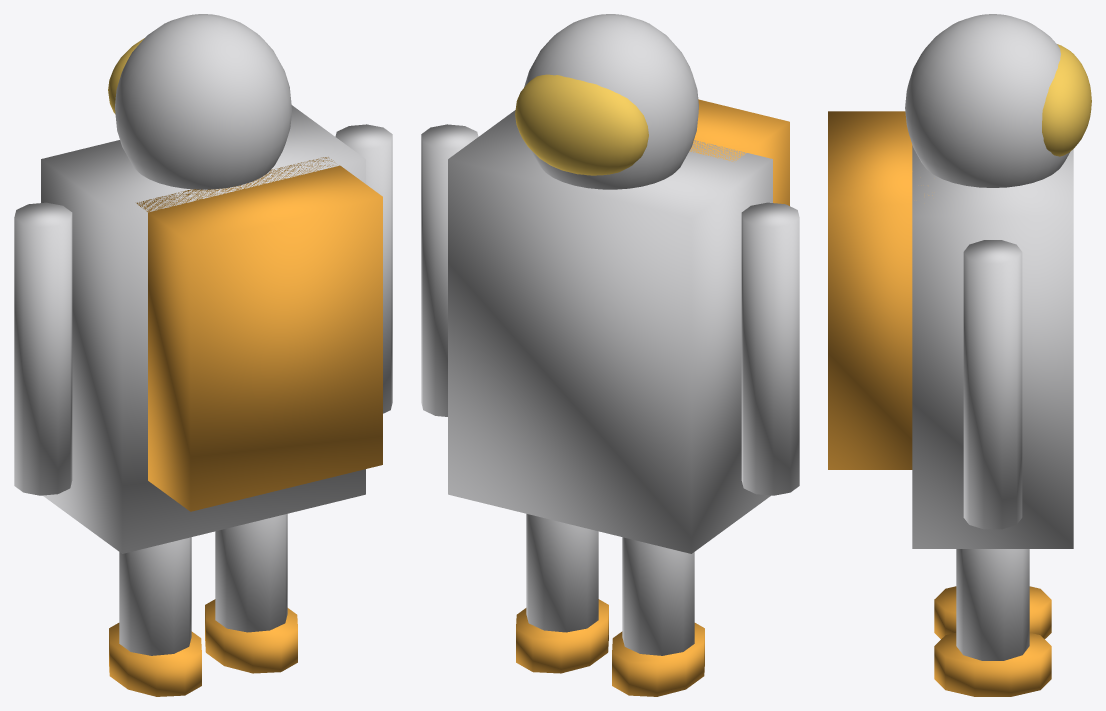
File: astronaut.glb
3 views of the same model, side by side, from view 1: azimuth 30°, elevation 25°; view 2: azimuth 150°, elevation 25°; view 3: azimuth 270°, elevation 25° (orthographic).
Parts seen in each view (by area): view 1: astronaut; view 2: astronaut; view 3: astronaut.
Boxes of the visible parts, x1,y1,x2,y2 form: astronaut: [14, 14, 392, 696]; astronaut: [421, 14, 799, 696]; astronaut: [828, 14, 1091, 696].
Size of the model in its own units: 1.15 by 1.91 by 0.72.
